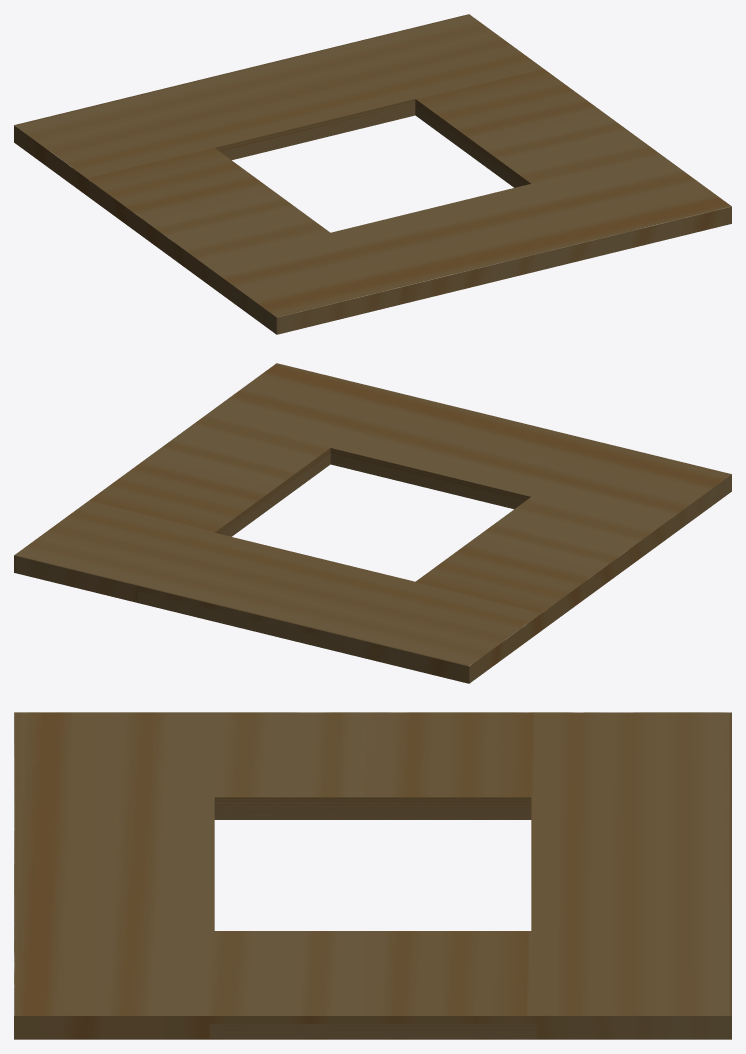
File: BossMap.obj
3 views of the same model, one above another, from view 1: azimuth 30°, elevation 25°; view 2: azimuth 150°, elevation 25°; view 3: azimuth 270°, elevation 25° (orthographic). The views are drawn at different scales.
Visible parts, largest first — view 1: Cube; view 2: Cube; view 3: Cube.
Boxes of the visible parts, x1,y1,x2,y2 form: Cube: (14,14,731,334); Cube: (14,363,731,683); Cube: (14,712,731,1039).
Bounding box in the file's own units: 76.63 × 2.79 × 76.63.
Materials: 1 (1 with a texture image).
